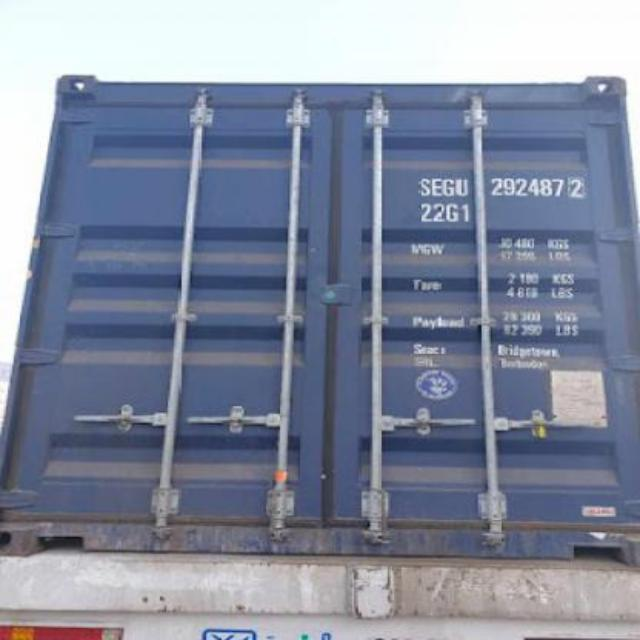2: (564, 174, 586, 202), (514, 170, 530, 200), (488, 175, 504, 193)
4: (526, 168, 540, 198)
7: (552, 172, 564, 200)
8: (540, 170, 550, 200)
9: (504, 174, 516, 200)
E: (430, 174, 442, 198)
G: (442, 172, 454, 200)
S: (416, 170, 429, 200)
U: (454, 173, 470, 197)
